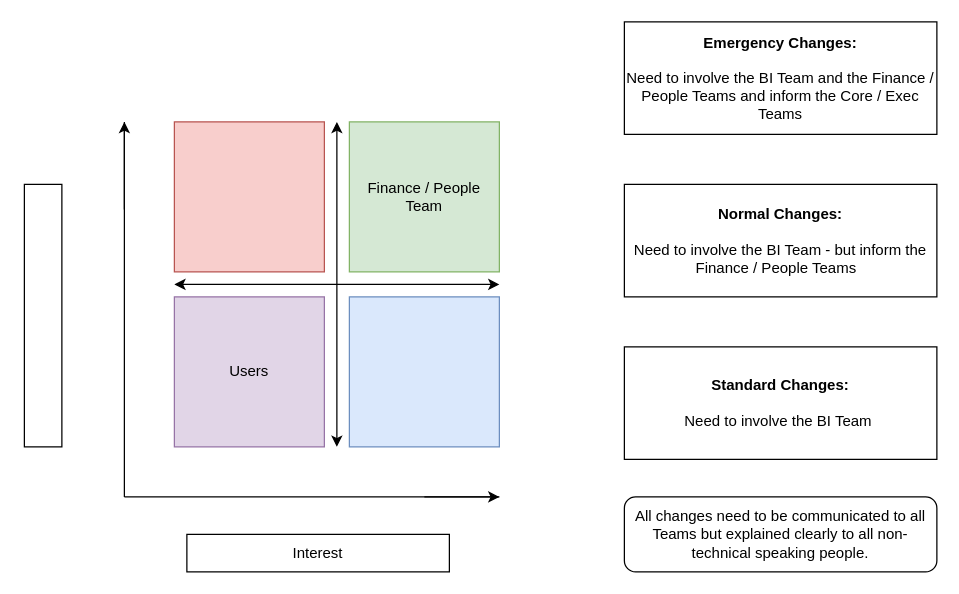
The diagram is 959 pixels wide and 594 high, and some of its shapes have lost their labels. Here are the shapes that lost their labels. From the top down, the centre of each, then its label:
point (248, 196): Core / Exec Team
point (42, 315): Power
point (423, 371): BI Team
